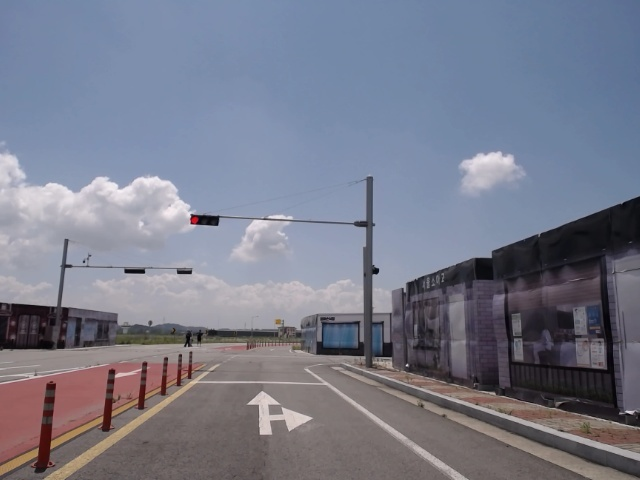red_3: (191, 214, 220, 226)
